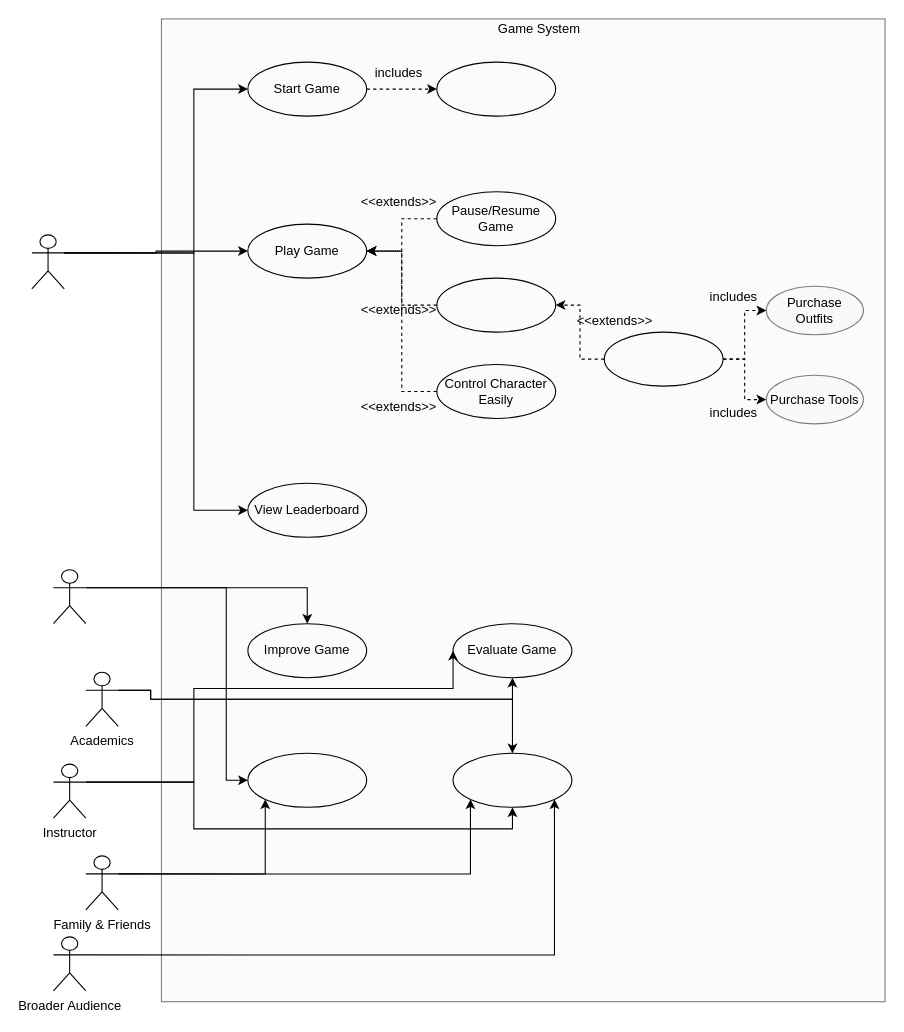
This 904x1032 diagram has some shape labels left out. The centre of each missing label's shape, as x and y in pixels:
"Developers" belongs at (x=69, y=596).
"Earn Coins" belongs at (x=496, y=304).
"Player" belongs at (x=47, y=261).
"Provide Feedback" belongs at (x=512, y=779).
"Test Game" belongs at (x=307, y=779).
"Upgrade Character" belongs at (x=663, y=358).
"View Tutorial" belongs at (x=496, y=88).
